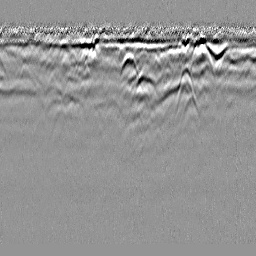cavity: (118, 52, 140, 76)
